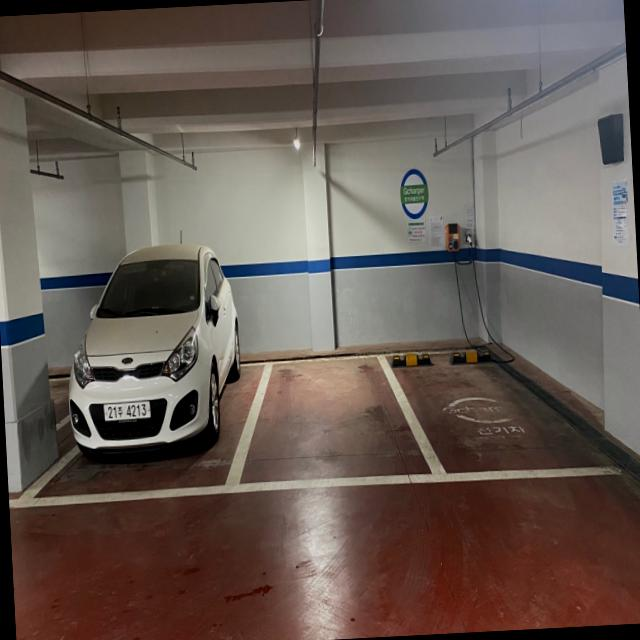car: (61, 232, 230, 461)
free: (384, 336, 634, 486), (214, 352, 446, 494)
